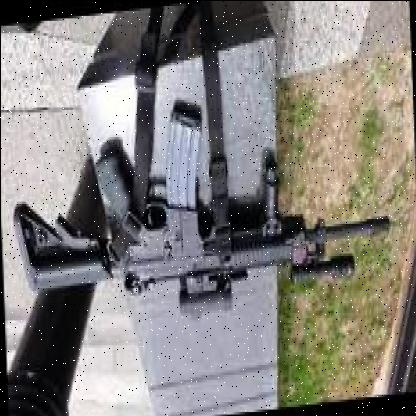rifle: (12, 92, 386, 314)
